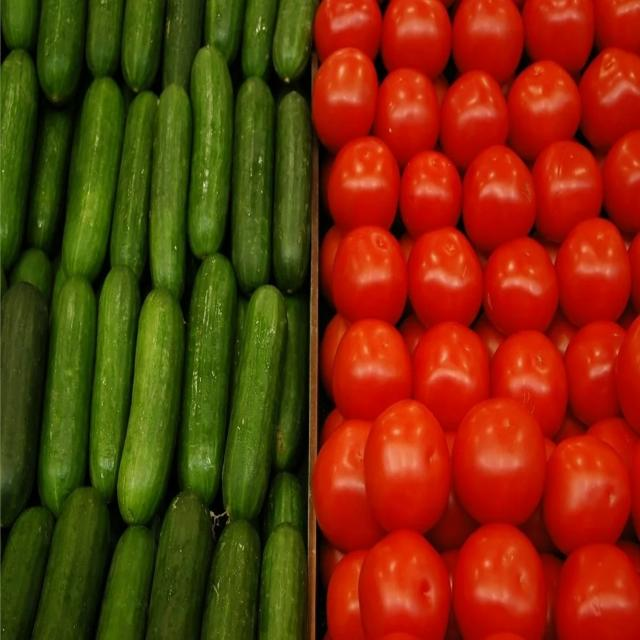tomato: (452, 398, 546, 525), (364, 399, 451, 534), (452, 523, 546, 640), (542, 435, 631, 555), (359, 529, 451, 640), (314, 420, 385, 553), (412, 323, 490, 431), (491, 330, 568, 439), (555, 218, 631, 326), (332, 319, 412, 421), (462, 144, 536, 253), (556, 544, 640, 640), (482, 236, 559, 336), (408, 227, 484, 328), (332, 225, 408, 324), (508, 60, 581, 161), (532, 141, 602, 244), (312, 47, 379, 154), (440, 69, 509, 171), (328, 137, 400, 233), (372, 68, 440, 169), (564, 321, 626, 426), (579, 47, 640, 152), (452, 0, 524, 84), (381, 0, 451, 81), (399, 150, 462, 238), (522, 0, 595, 73), (314, 0, 382, 61), (602, 129, 640, 234), (326, 550, 369, 640), (616, 315, 640, 435), (592, 0, 640, 56), (320, 313, 351, 399), (320, 225, 344, 306)
